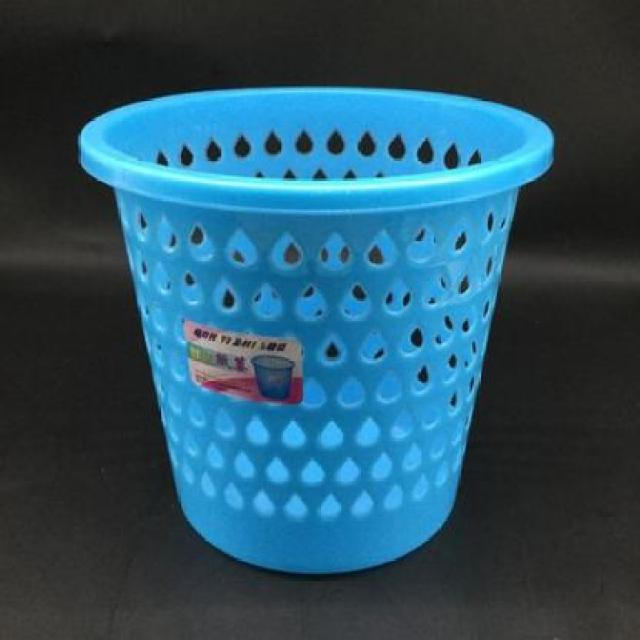dustbin: (75, 83, 557, 581)
